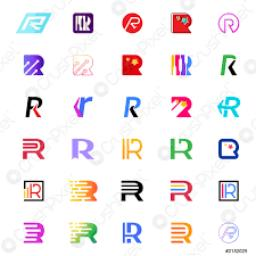r: (66, 216, 102, 248), (12, 8, 52, 36), (117, 132, 147, 166), (68, 52, 100, 82), (66, 136, 100, 164), (167, 132, 195, 166), (117, 178, 147, 208), (116, 218, 148, 246), (20, 90, 46, 124), (18, 136, 48, 164), (70, 90, 96, 122), (20, 177, 48, 205), (215, 93, 243, 121), (168, 9, 196, 37), (215, 10, 241, 40), (22, 50, 46, 80), (122, 90, 144, 122), (216, 52, 240, 80), (120, 9, 144, 37), (218, 219, 242, 245)
